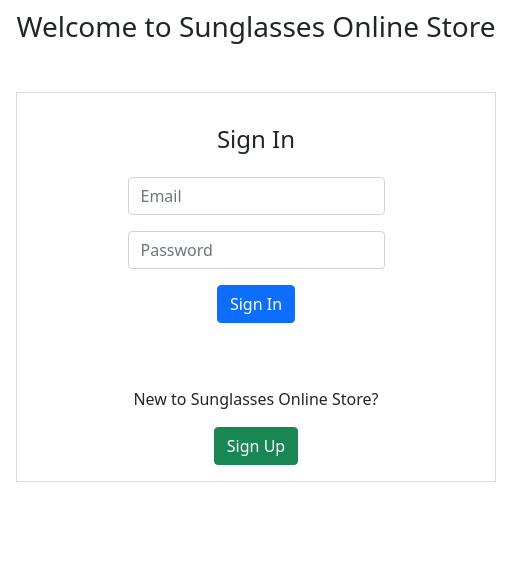
Test: Testing SignIn component › It should display "Error: Email or password are not correct"
// filling the text inputs with wrong data
Type "blabla@bla.com" into the field with placeholder "Email" at (256,196), box top-left (128, 177), bottom-right (384, 215)
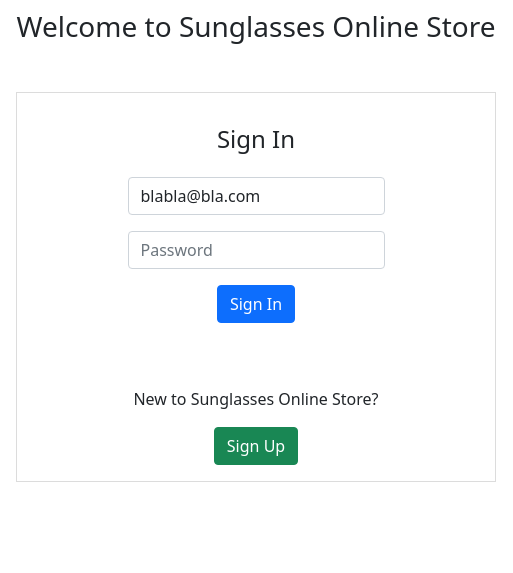
Type "blablabla" into the password field with placeholder "Password" at (256,250), box top-left (128, 231), bottom-right (384, 269)
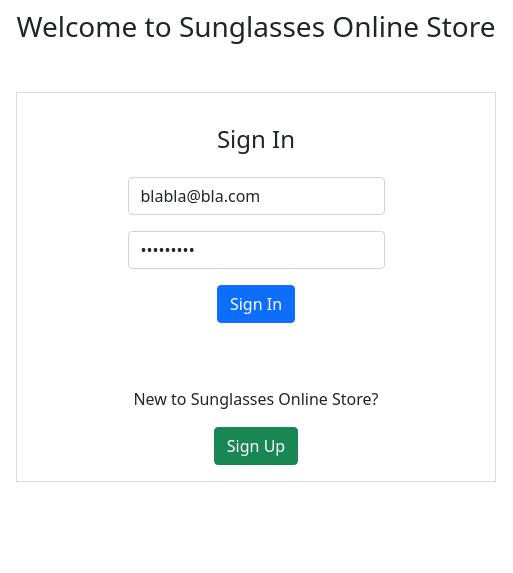
// clicking the sign in button
Click the button "Sign In" at (256,304), box top-left (217, 285), bottom-right (295, 323)
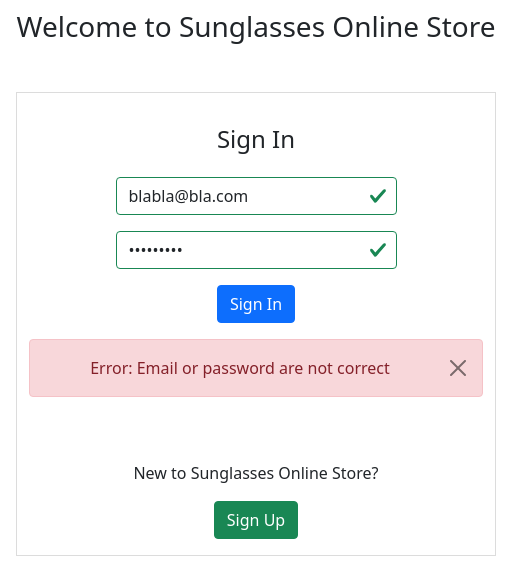
Now the text "Error: Email or password are not correct" is shown, box top-left (90, 357), bottom-right (390, 379)
